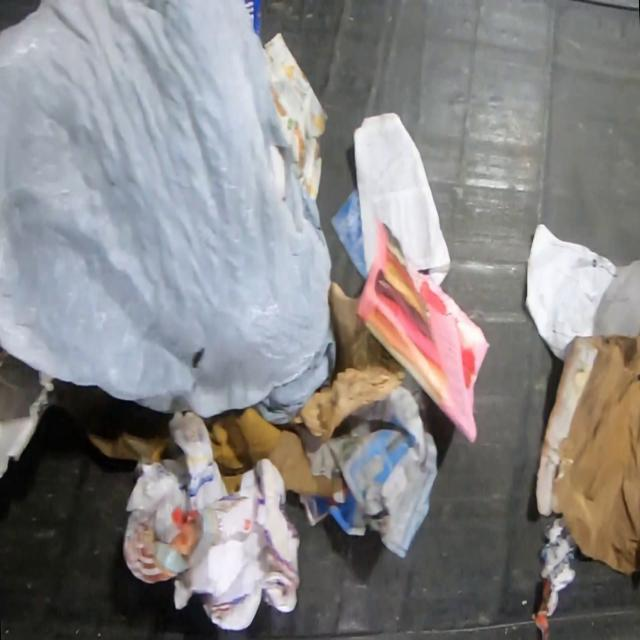cardboard: (204, 406, 348, 499), (56, 379, 175, 464)
soft_plastic: (0, 0, 336, 425)
